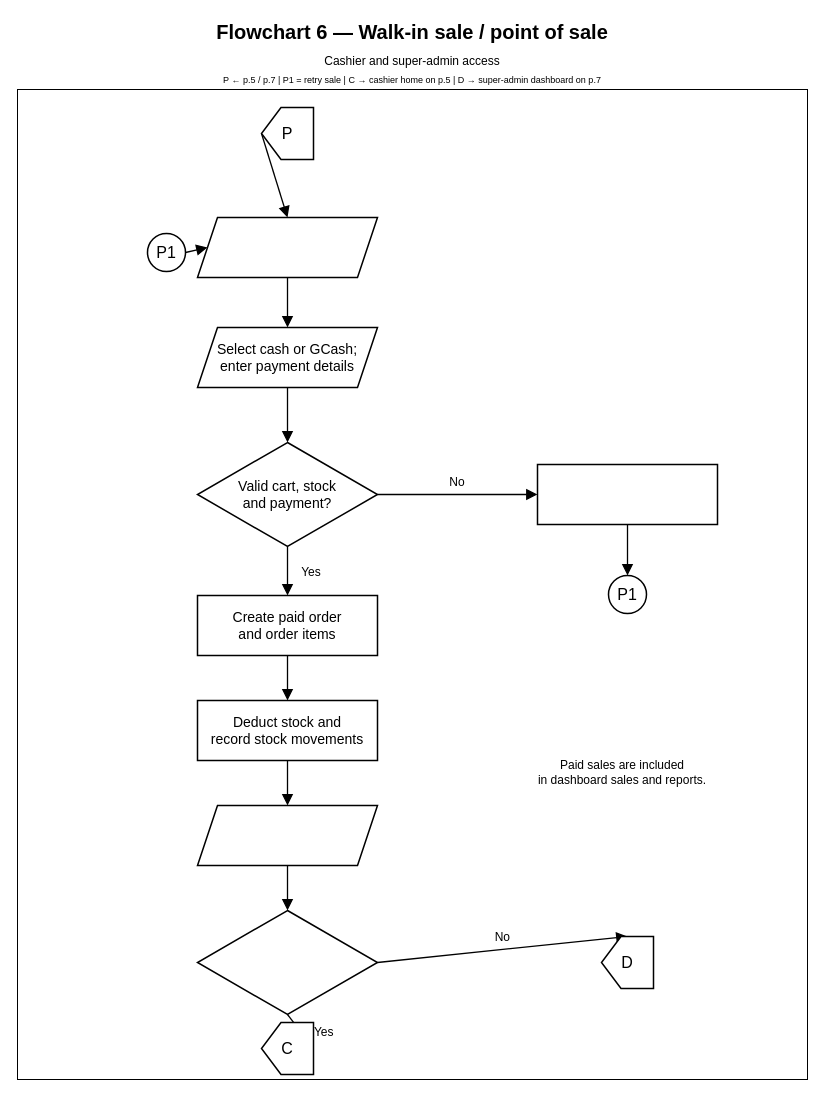
Image size: 825x1097. Some labels were removed from this diagram. Here are the shapes that lost their labels. From the top down, the centre of each, then its label:
At (287,247): "Select products and quantities".
At (627,494): "Show validation error; roll back any changes".
At (287,835): "Display printable receipt".
At (287,962): "Cashier account?".
